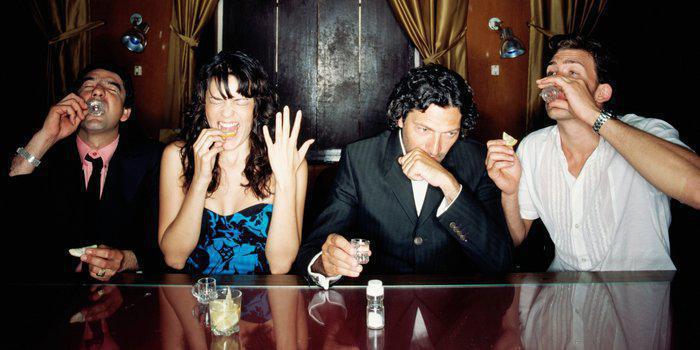Drunk: (403, 100, 461, 165), (204, 76, 253, 150), (543, 52, 592, 121), (78, 74, 123, 127)
